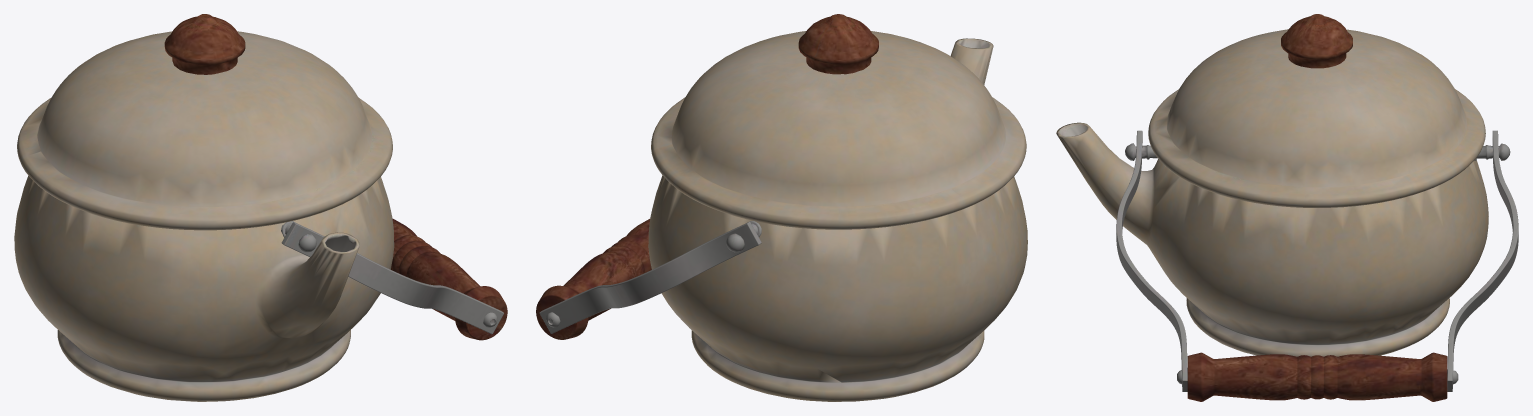
Rendered from kettle.glb.
The picture shows the model from 3 angles, left to right: view 1: azimuth 30°, elevation 25°; view 2: azimuth 150°, elevation 25°; view 3: azimuth 270°, elevation 25°; orthographic projection. The views are drawn at different scales.
Parts seen in each view (by area): view 1: kettle; view 2: kettle; view 3: kettle.
Part boxes in pixels (bbox=[...]): kettle: bbox=[14, 14, 507, 401]; kettle: bbox=[536, 14, 1027, 401]; kettle: bbox=[1056, 14, 1518, 401].
Bounding box in the file's own units: 0.1828 × 0.1433 × 0.2046.
1 material, 1 textured.
